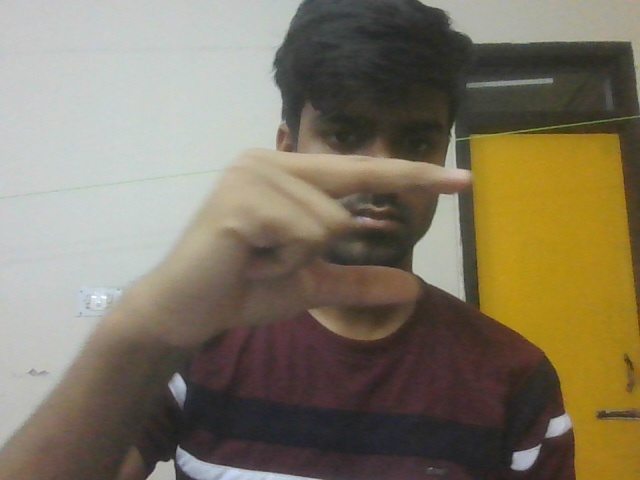no: (91, 144, 483, 377)
